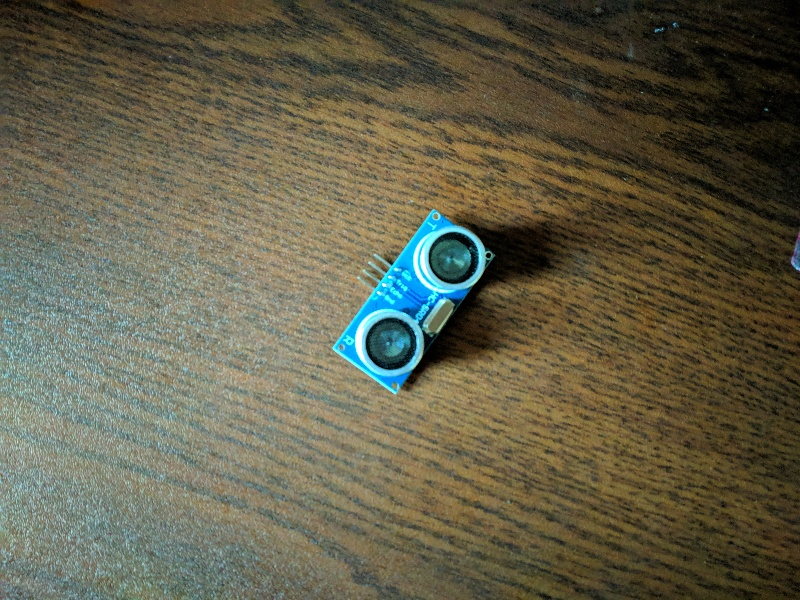Sonar Sensor: (327, 203, 502, 402)
